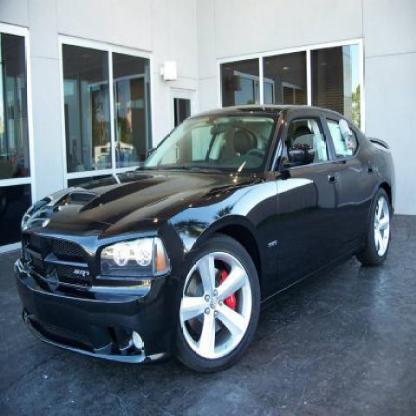car: (14, 103, 398, 377)
